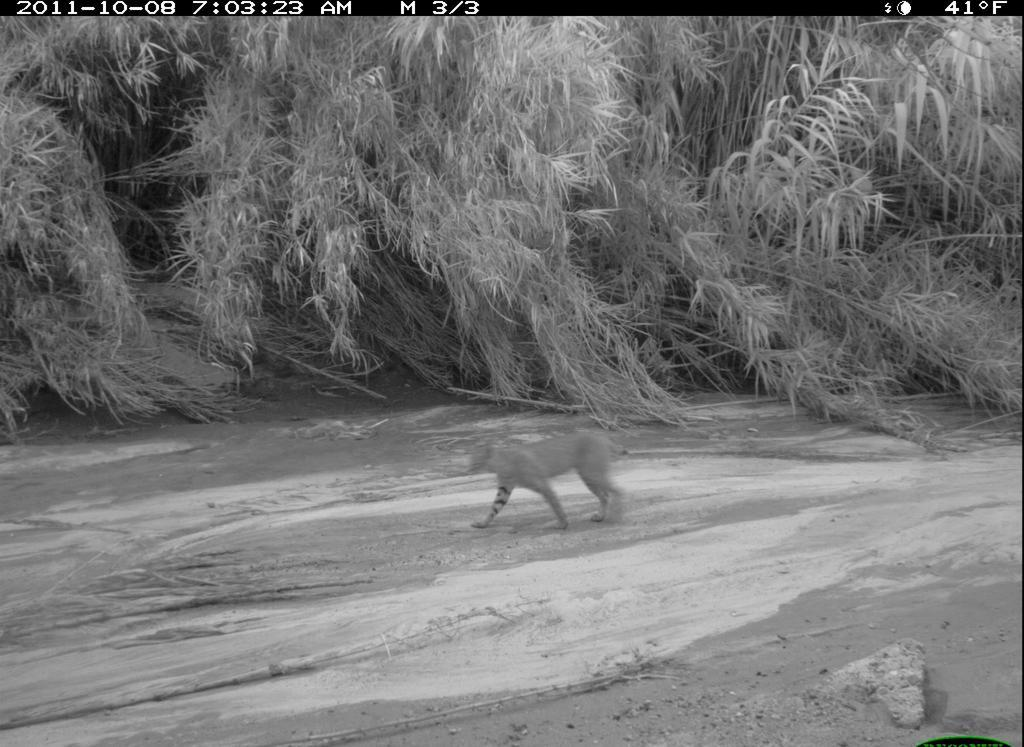bobcat: (463, 427, 633, 547)
